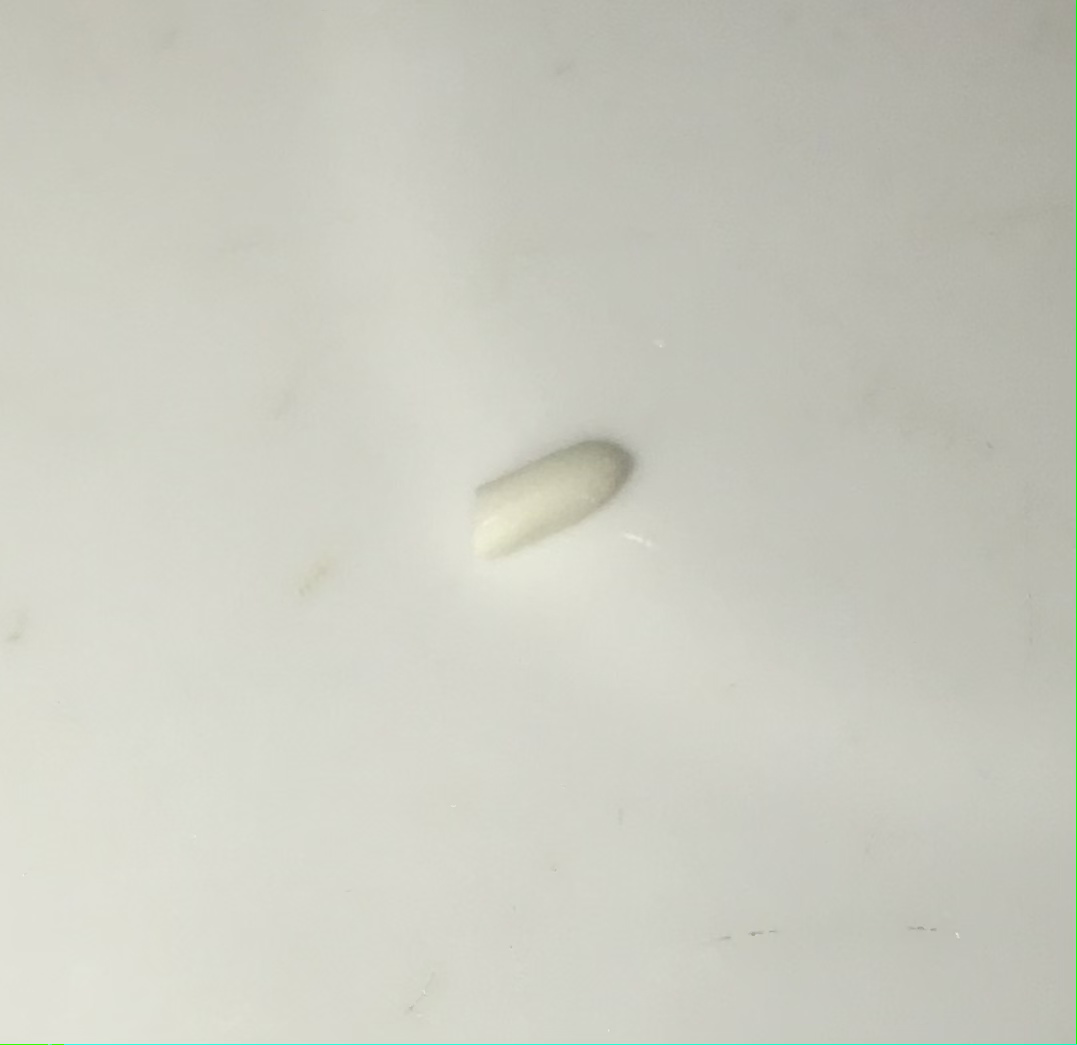Gao Nep Sap: (483, 438, 639, 568)
